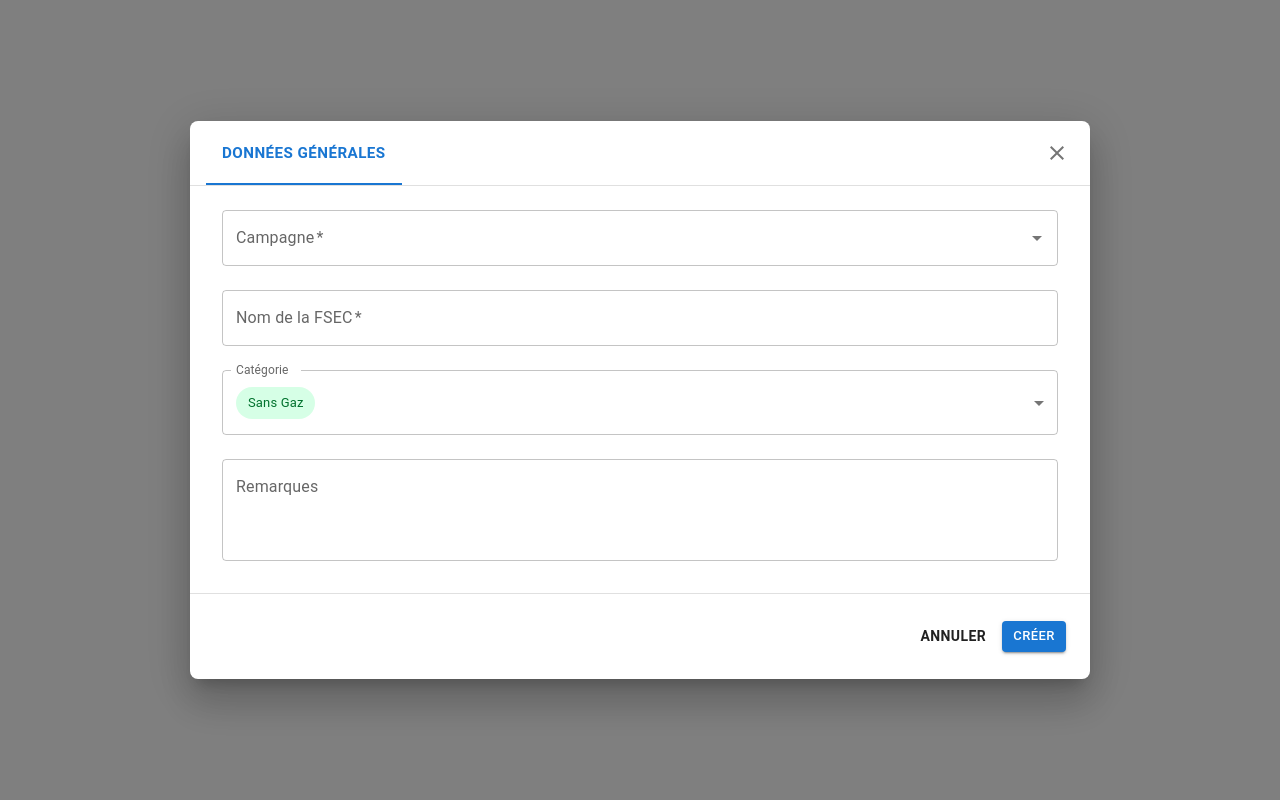
Test: CreateFsecModal › Campaign Selection › should display campaign options in autocomplete
Step 1. Click the dropdown labelled "Campagne *" → click(625, 238), box x1=231 y1=219 x2=1019 y2=257
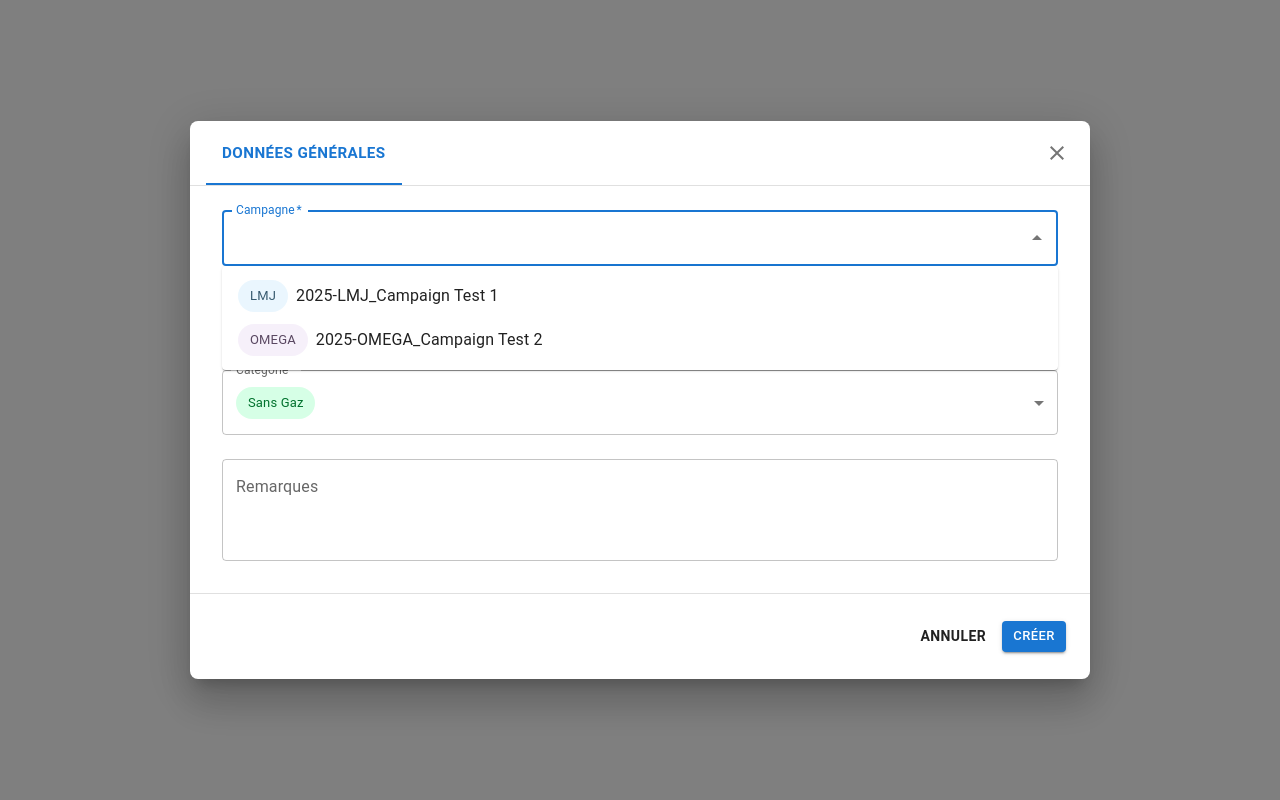
Expected: the text "2025-LMJ_Campaign Test 1" is shown, x1=296 y1=284 x2=498 y2=308
Expected: the text "2025-OMEGA_Campaign Test 2" is shown, x1=316 y1=328 x2=543 y2=352
